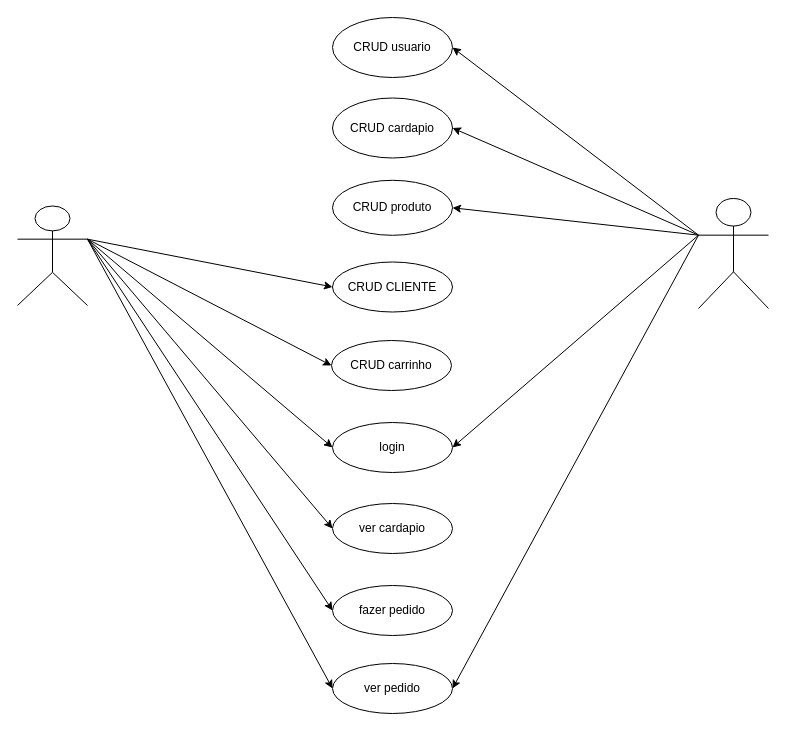
This 786x731 diagram has some shape labels left out. The shapes that lost their labels are listed below. From the top down, each one's centre as x and y in pixels, then its label:
At point (52, 255): "Cliente".
At point (733, 253): "Admin".
